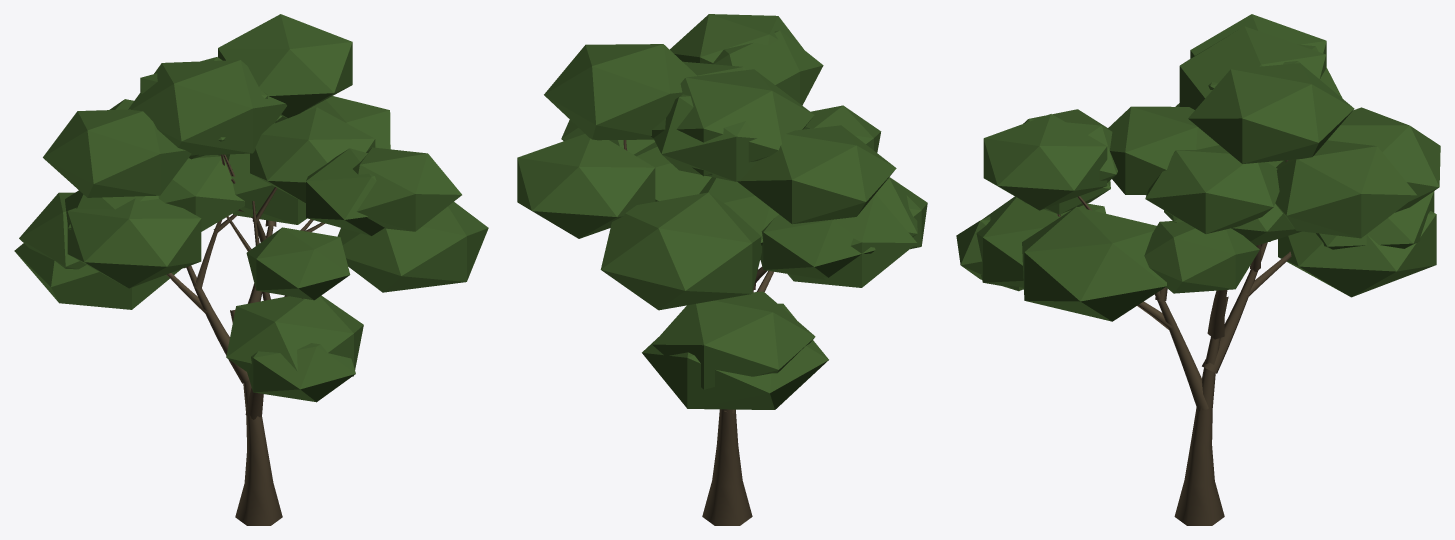
File: jungle_tree_b.glb
The picture shows the model from 3 angles, left to right: view 1: azimuth 30°, elevation 25°; view 2: azimuth 150°, elevation 25°; view 3: azimuth 270°, elevation 25°; orthographic projection. The views are drawn at different scales.
Parts seen in each view (by area): view 1: JungleCanopy, JungleTrunk; view 2: JungleCanopy, JungleTrunk; view 3: JungleCanopy, JungleTrunk.
Part boxes in pixels (<box>): JungleCanopy: <box>14,14,488,402</box>; JungleTrunk: <box>166,154,325,525</box>; JungleCanopy: <box>517,14,927,409</box>; JungleTrunk: <box>623,140,773,525</box>; JungleCanopy: <box>956,14,1440,321</box>; JungleTrunk: <box>1057,160,1291,525</box>.
Size of the model in its own units: 7.51 by 9.14 by 8.52.
